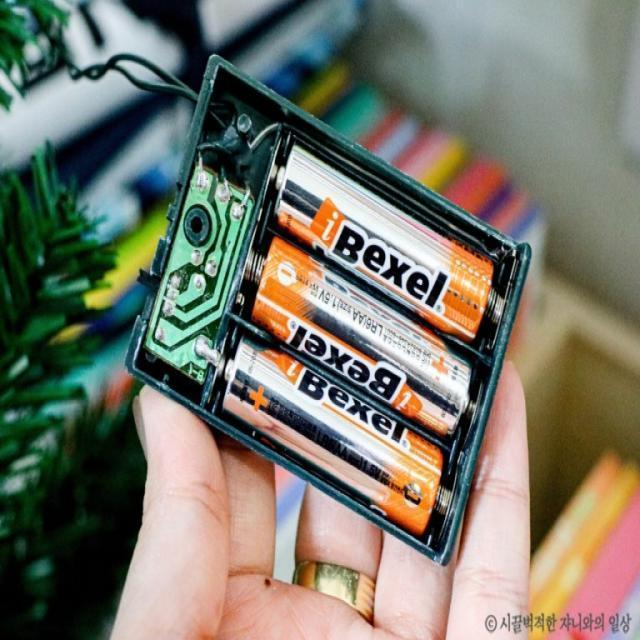Hazard: (273, 143, 495, 347), (221, 336, 443, 538), (252, 238, 472, 438)
